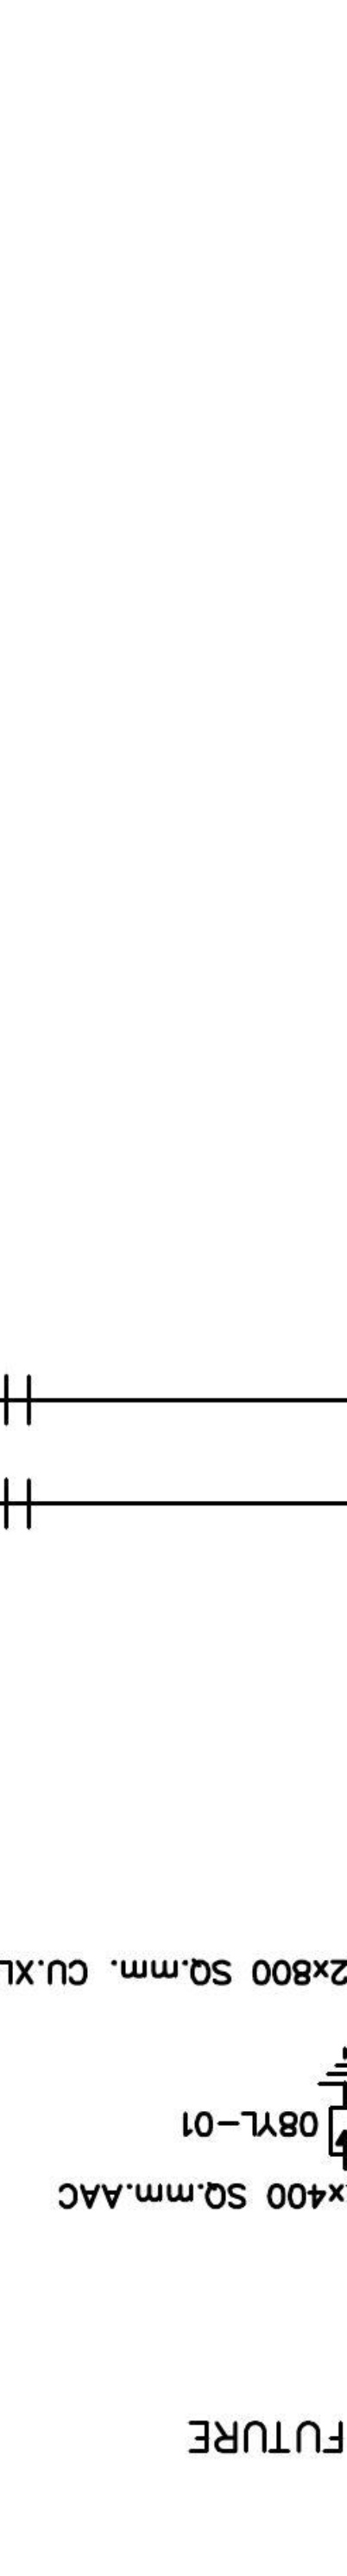115_buffer: (3, 1477, 31, 1529), (3, 1373, 31, 1426)
